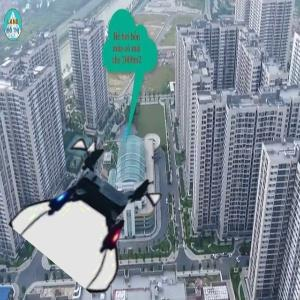drone: (28, 146, 158, 276)
